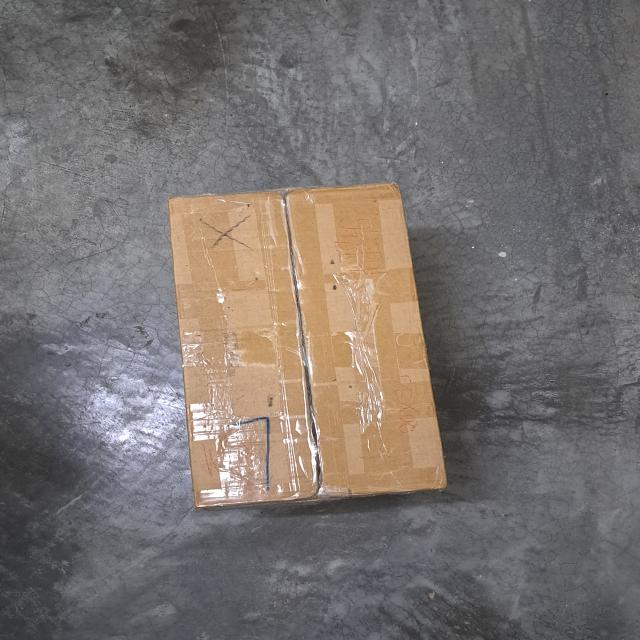cardboard: (163, 184, 452, 513)
